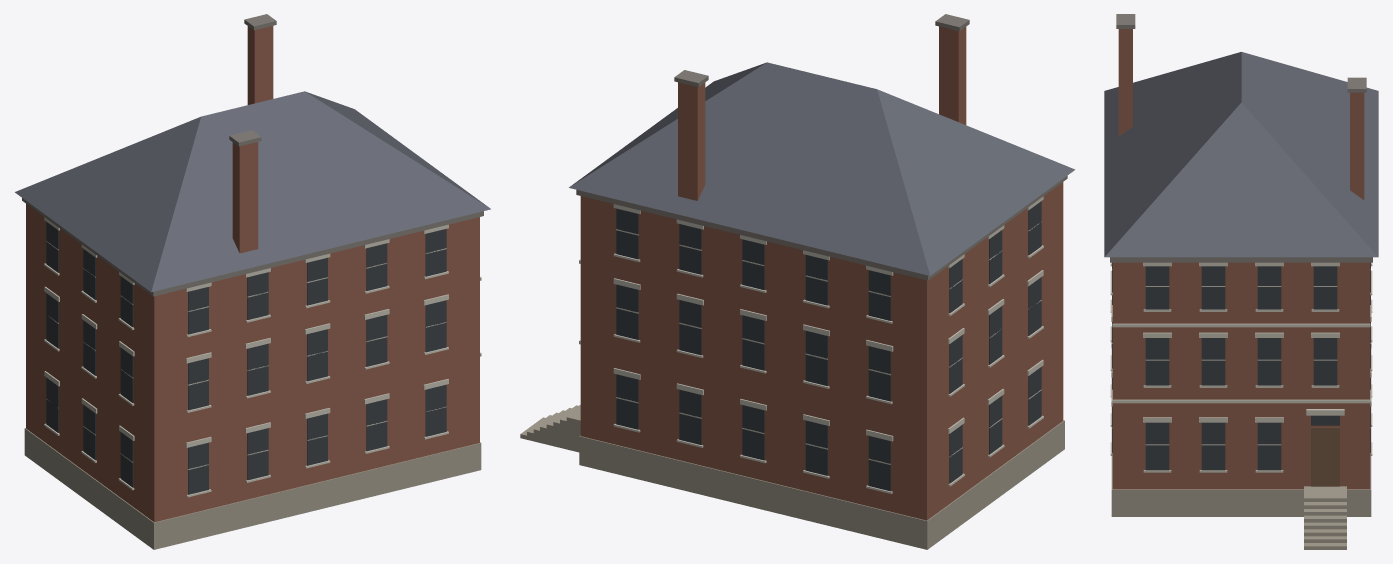
Rendered from house_1840_calumet__draft_1904.glb.
The picture shows the model from 3 angles, left to right: view 1: azimuth 30°, elevation 25°; view 2: azimuth 150°, elevation 25°; view 3: azimuth 270°, elevation 25°; orthographic projection. The views are drawn at different scales.
Visible parts, largest first — view 1: house_1840_calumet__draft_1904; view 2: house_1840_calumet__draft_1904; view 3: house_1840_calumet__draft_1904.
Boxes of the visible parts, box(x1,y1,x2,y2) form: house_1840_calumet__draft_1904: box(15, 14, 490, 549); house_1840_calumet__draft_1904: box(520, 14, 1075, 549); house_1840_calumet__draft_1904: box(1104, 14, 1378, 549).
Bounding box in the file's own units: 19.4 × 17.75 × 11.45.
